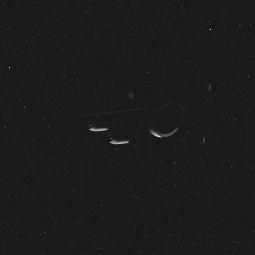proba_3_csc: (45, 72, 223, 162)
